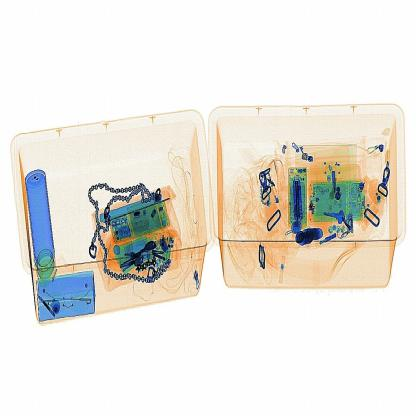scissors: (283, 166, 313, 225)
